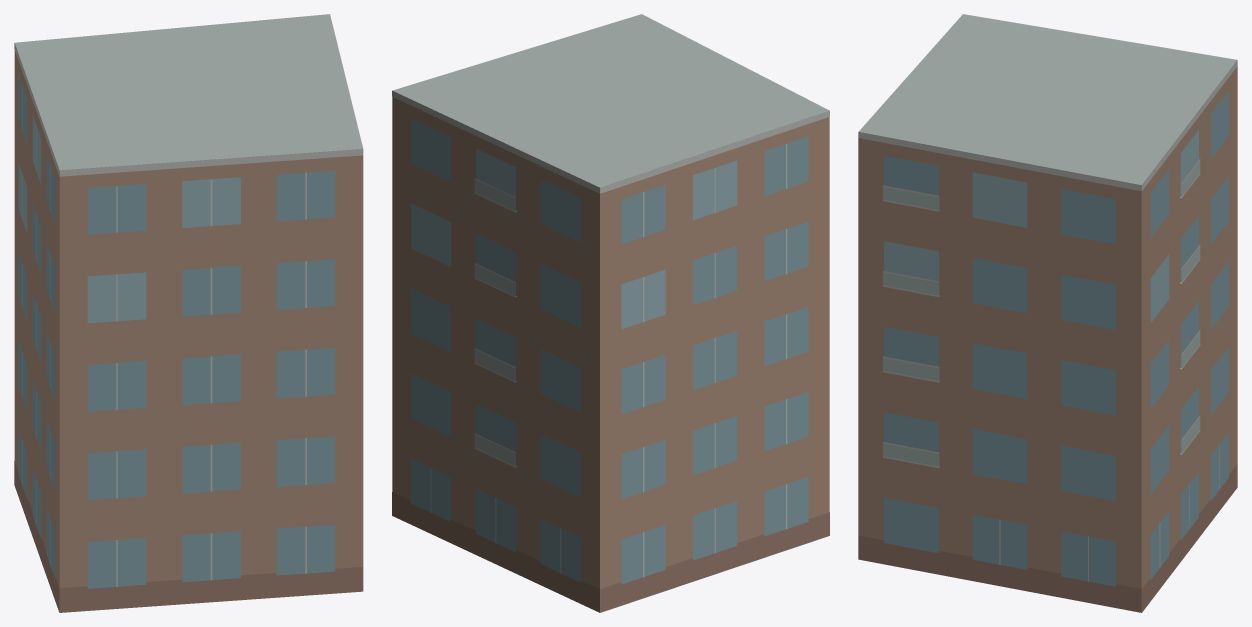
Rendered from survey-upis-32998116.glb.
3 views of the same model, side by side, from view 1: azimuth 30°, elevation 25°; view 2: azimuth 150°, elevation 25°; view 3: azimuth 270°, elevation 25° (orthographic). The views are drawn at different scales.
Visible parts, largest first — view 1: survey-upis-32998116.tmp; view 2: survey-upis-32998116.tmp; view 3: survey-upis-32998116.tmp.
Boxes of the visible parts, x1=… form: survey-upis-32998116.tmp: x1=14, y1=14, x2=363, y2=612; survey-upis-32998116.tmp: x1=392, y1=14, x2=829, y2=612; survey-upis-32998116.tmp: x1=858, y1=14, x2=1237, y2=612.
Bounding box in the file's own units: 14.51 × 16.89 × 13.58.
